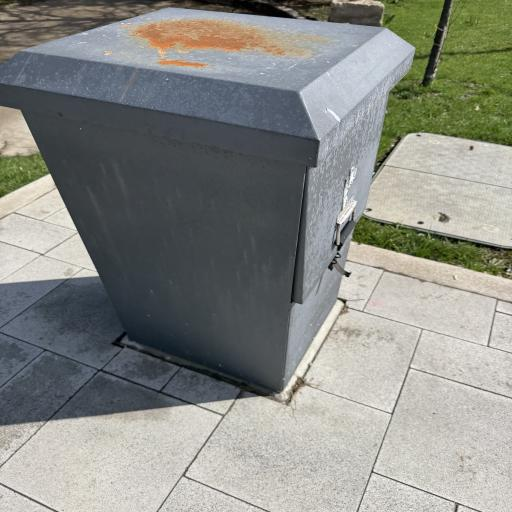Electrical Box: (0, 7, 417, 390)
